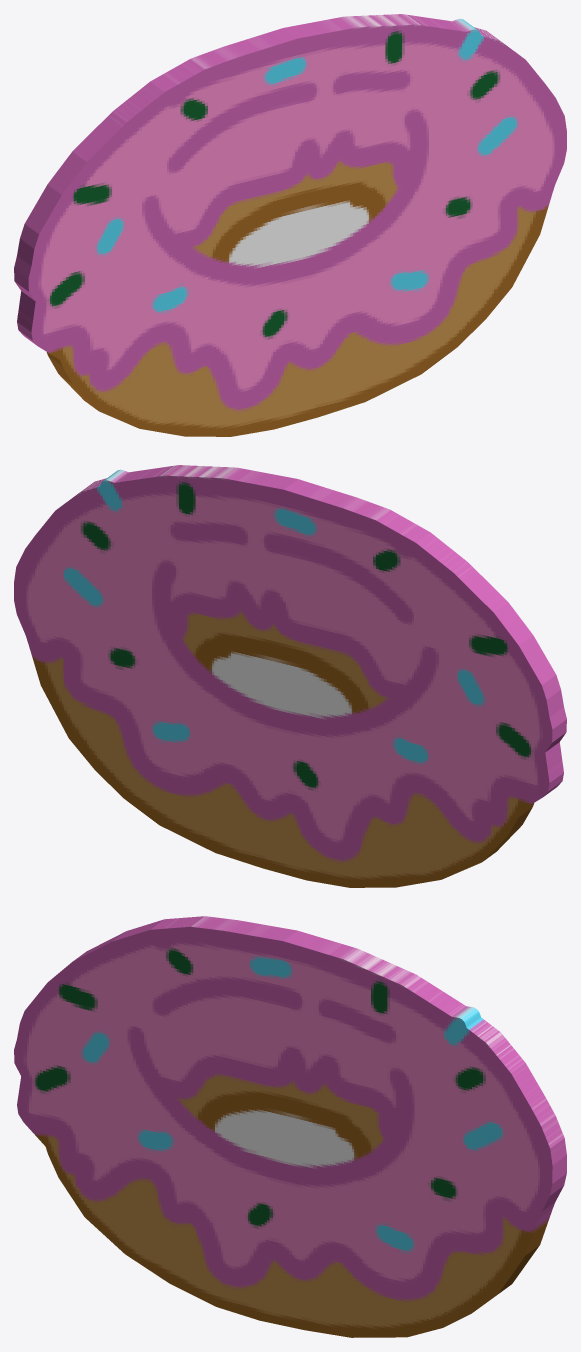
File: doughnut.fbx
The picture shows the model from 3 angles, top to bottom: view 1: azimuth 30°, elevation 25°; view 2: azimuth 150°, elevation 25°; view 3: azimuth 330°, elevation 25°; orthographic projection.
Parts seen in each view (by area): view 1: Plane; view 2: Plane; view 3: Plane.
Boxes of the visible parts, x1=… form: Plane: x1=14, y1=14, x2=566, y2=436; Plane: x1=14, y1=465, x2=566, y2=887; Plane: x1=14, y1=916, x2=566, y2=1337.
Size of the model in its own units: 389 by 266 by 18.13.
1 material, 1 textured.
